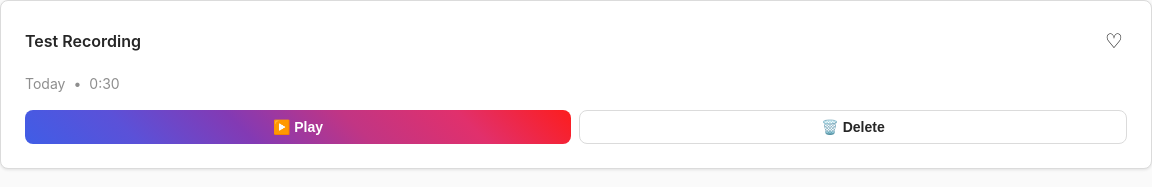
RecordingItem › should enable editing mode when name clicked
Click the heading "Test Recording" at (83, 41), box [25,31,141,51]
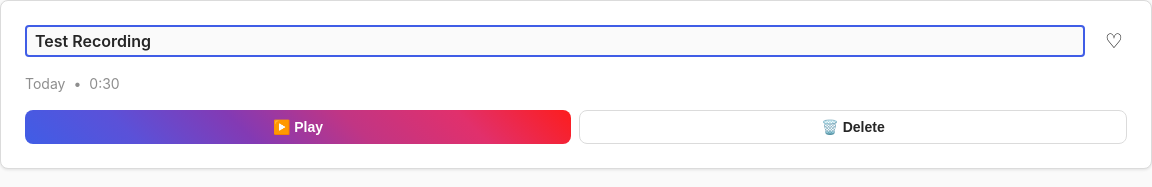
Expected: the field showing "Test Recording" is shown, [25,25,1085,57]
